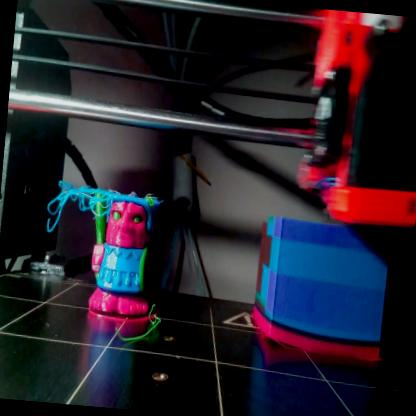fail: (44, 180, 112, 239), (116, 301, 168, 352)
